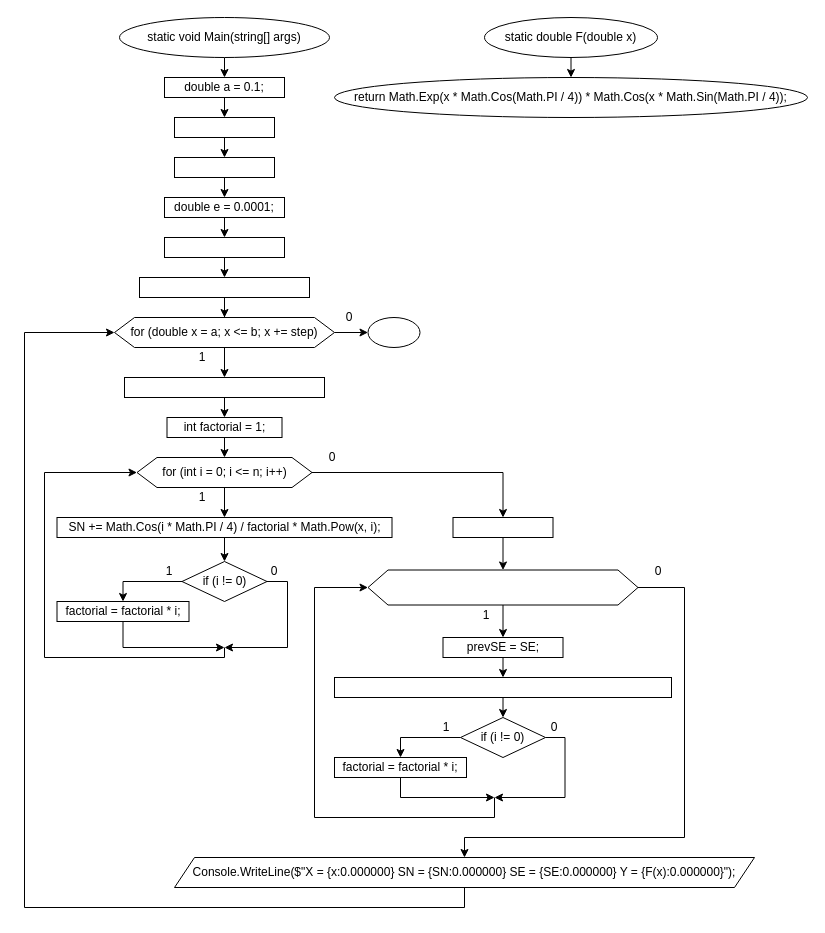
Image size: 825x933. Some labels were removed from this diagram. Here are the shapes that lost their labels. From the top down, the box of each, then its label:
(174, 116, 274, 138): double b = 1;
(174, 156, 274, 178): int k = 10;
(164, 236, 284, 258): int n = 25;
(138, 276, 310, 298): double step = (b - a) / k;
(124, 376, 324, 398): double SN = 0, SE = 0, prevSE = 1;
(452, 516, 553, 538): factorial = 1;
(367, 569, 638, 605): for (int i = 0; Math.Abs(prevSE - SE) > e; i++)
(334, 676, 672, 698): SE += Math.Cos(i * Math.PI / 4) / factorial * Math.Pow(x, i);
